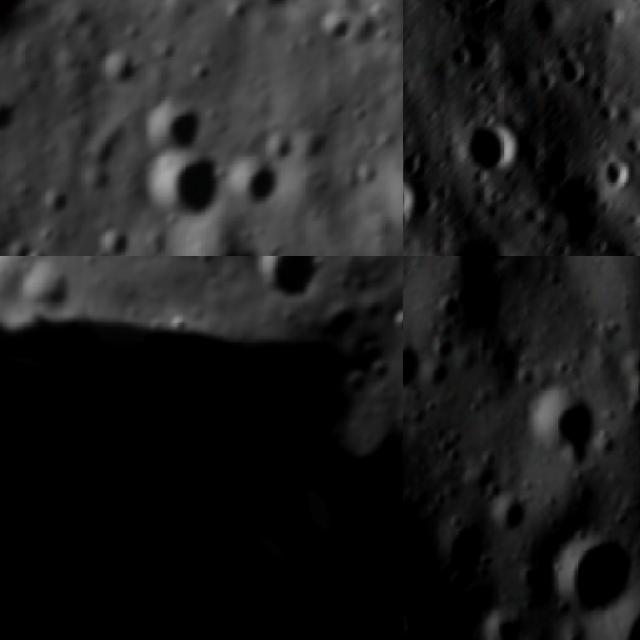crater: (0, 256, 403, 640), (403, 506, 491, 640), (442, 96, 536, 192), (544, 526, 640, 620), (518, 381, 602, 464), (140, 153, 228, 231), (413, 204, 536, 256), (438, 17, 512, 88), (245, 256, 334, 311), (134, 103, 208, 161), (228, 154, 283, 216), (585, 142, 640, 202), (490, 42, 544, 100), (538, 44, 594, 99), (89, 44, 144, 95), (514, 0, 577, 40), (583, 0, 637, 44), (572, 71, 620, 119), (512, 560, 562, 606), (314, 8, 356, 54), (403, 166, 428, 241), (181, 235, 263, 256), (225, 0, 314, 19), (384, 157, 403, 246), (613, 356, 640, 418), (403, 132, 436, 181), (485, 503, 531, 538), (403, 331, 428, 394), (586, 96, 625, 134), (89, 228, 133, 256), (479, 612, 523, 640), (36, 189, 70, 224), (426, 332, 462, 363), (438, 290, 467, 328), (450, 0, 510, 13), (386, 301, 403, 343), (479, 256, 514, 271), (403, 469, 411, 509)
